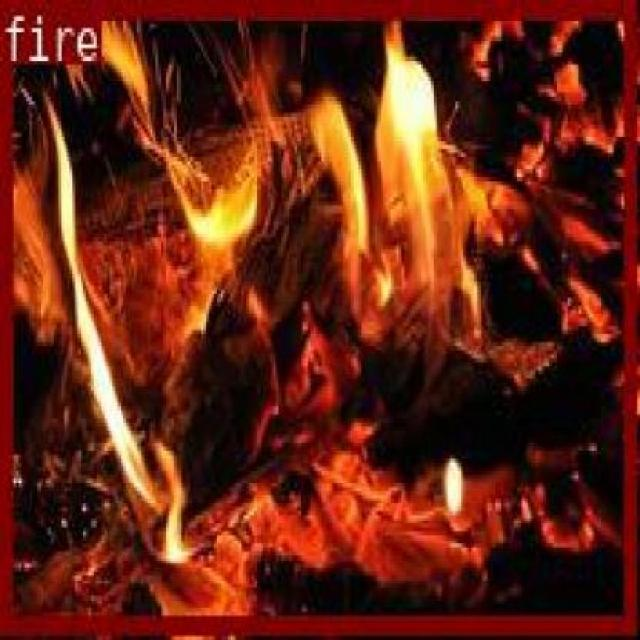Fire: (0, 0, 635, 632)
